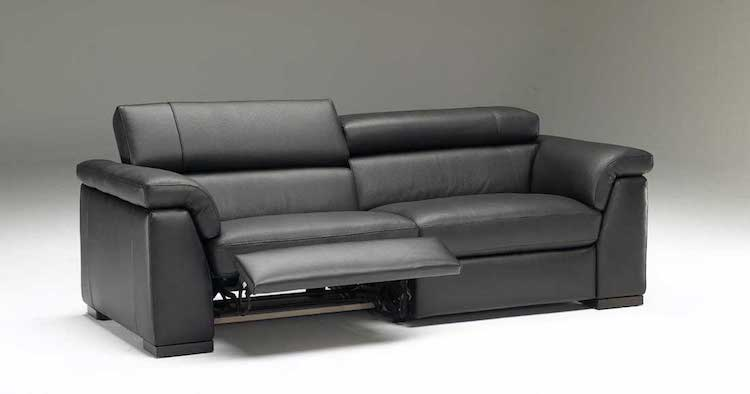chairs: (72, 101, 660, 361)
